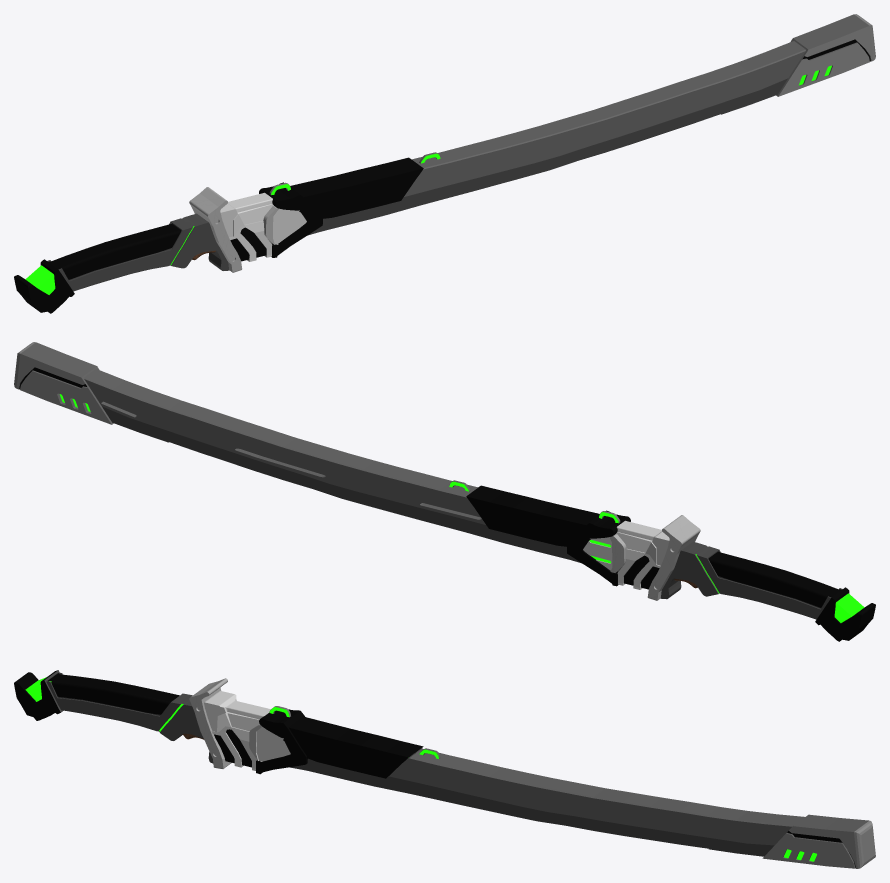
The model's file is cyberkatana2.fbx.
3 views of the same model, one above another, from view 1: azimuth 30°, elevation 25°; view 2: azimuth 150°, elevation 25°; view 3: azimuth 330°, elevation 25° (orthographic).
Parts seen in each view (by area): view 1: sheathe, katana; view 2: sheathe, katana; view 3: sheathe, katana.
Boxes of the visible parts, x1=… form: sheathe: x1=259, y1=14, x2=875, y2=257; katana: x1=14, y1=187, x2=273, y2=313; sheathe: x1=14, y1=342, x2=630, y2=586; katana: x1=616, y1=515, x2=875, y2=641; sheathe: x1=249, y1=706, x2=875, y2=868; katana: x1=14, y1=670, x2=270, y2=770.
Size of the model in its own units: 419 by 42.86 by 16.06.
Materials: 19 (2 with a texture image).
